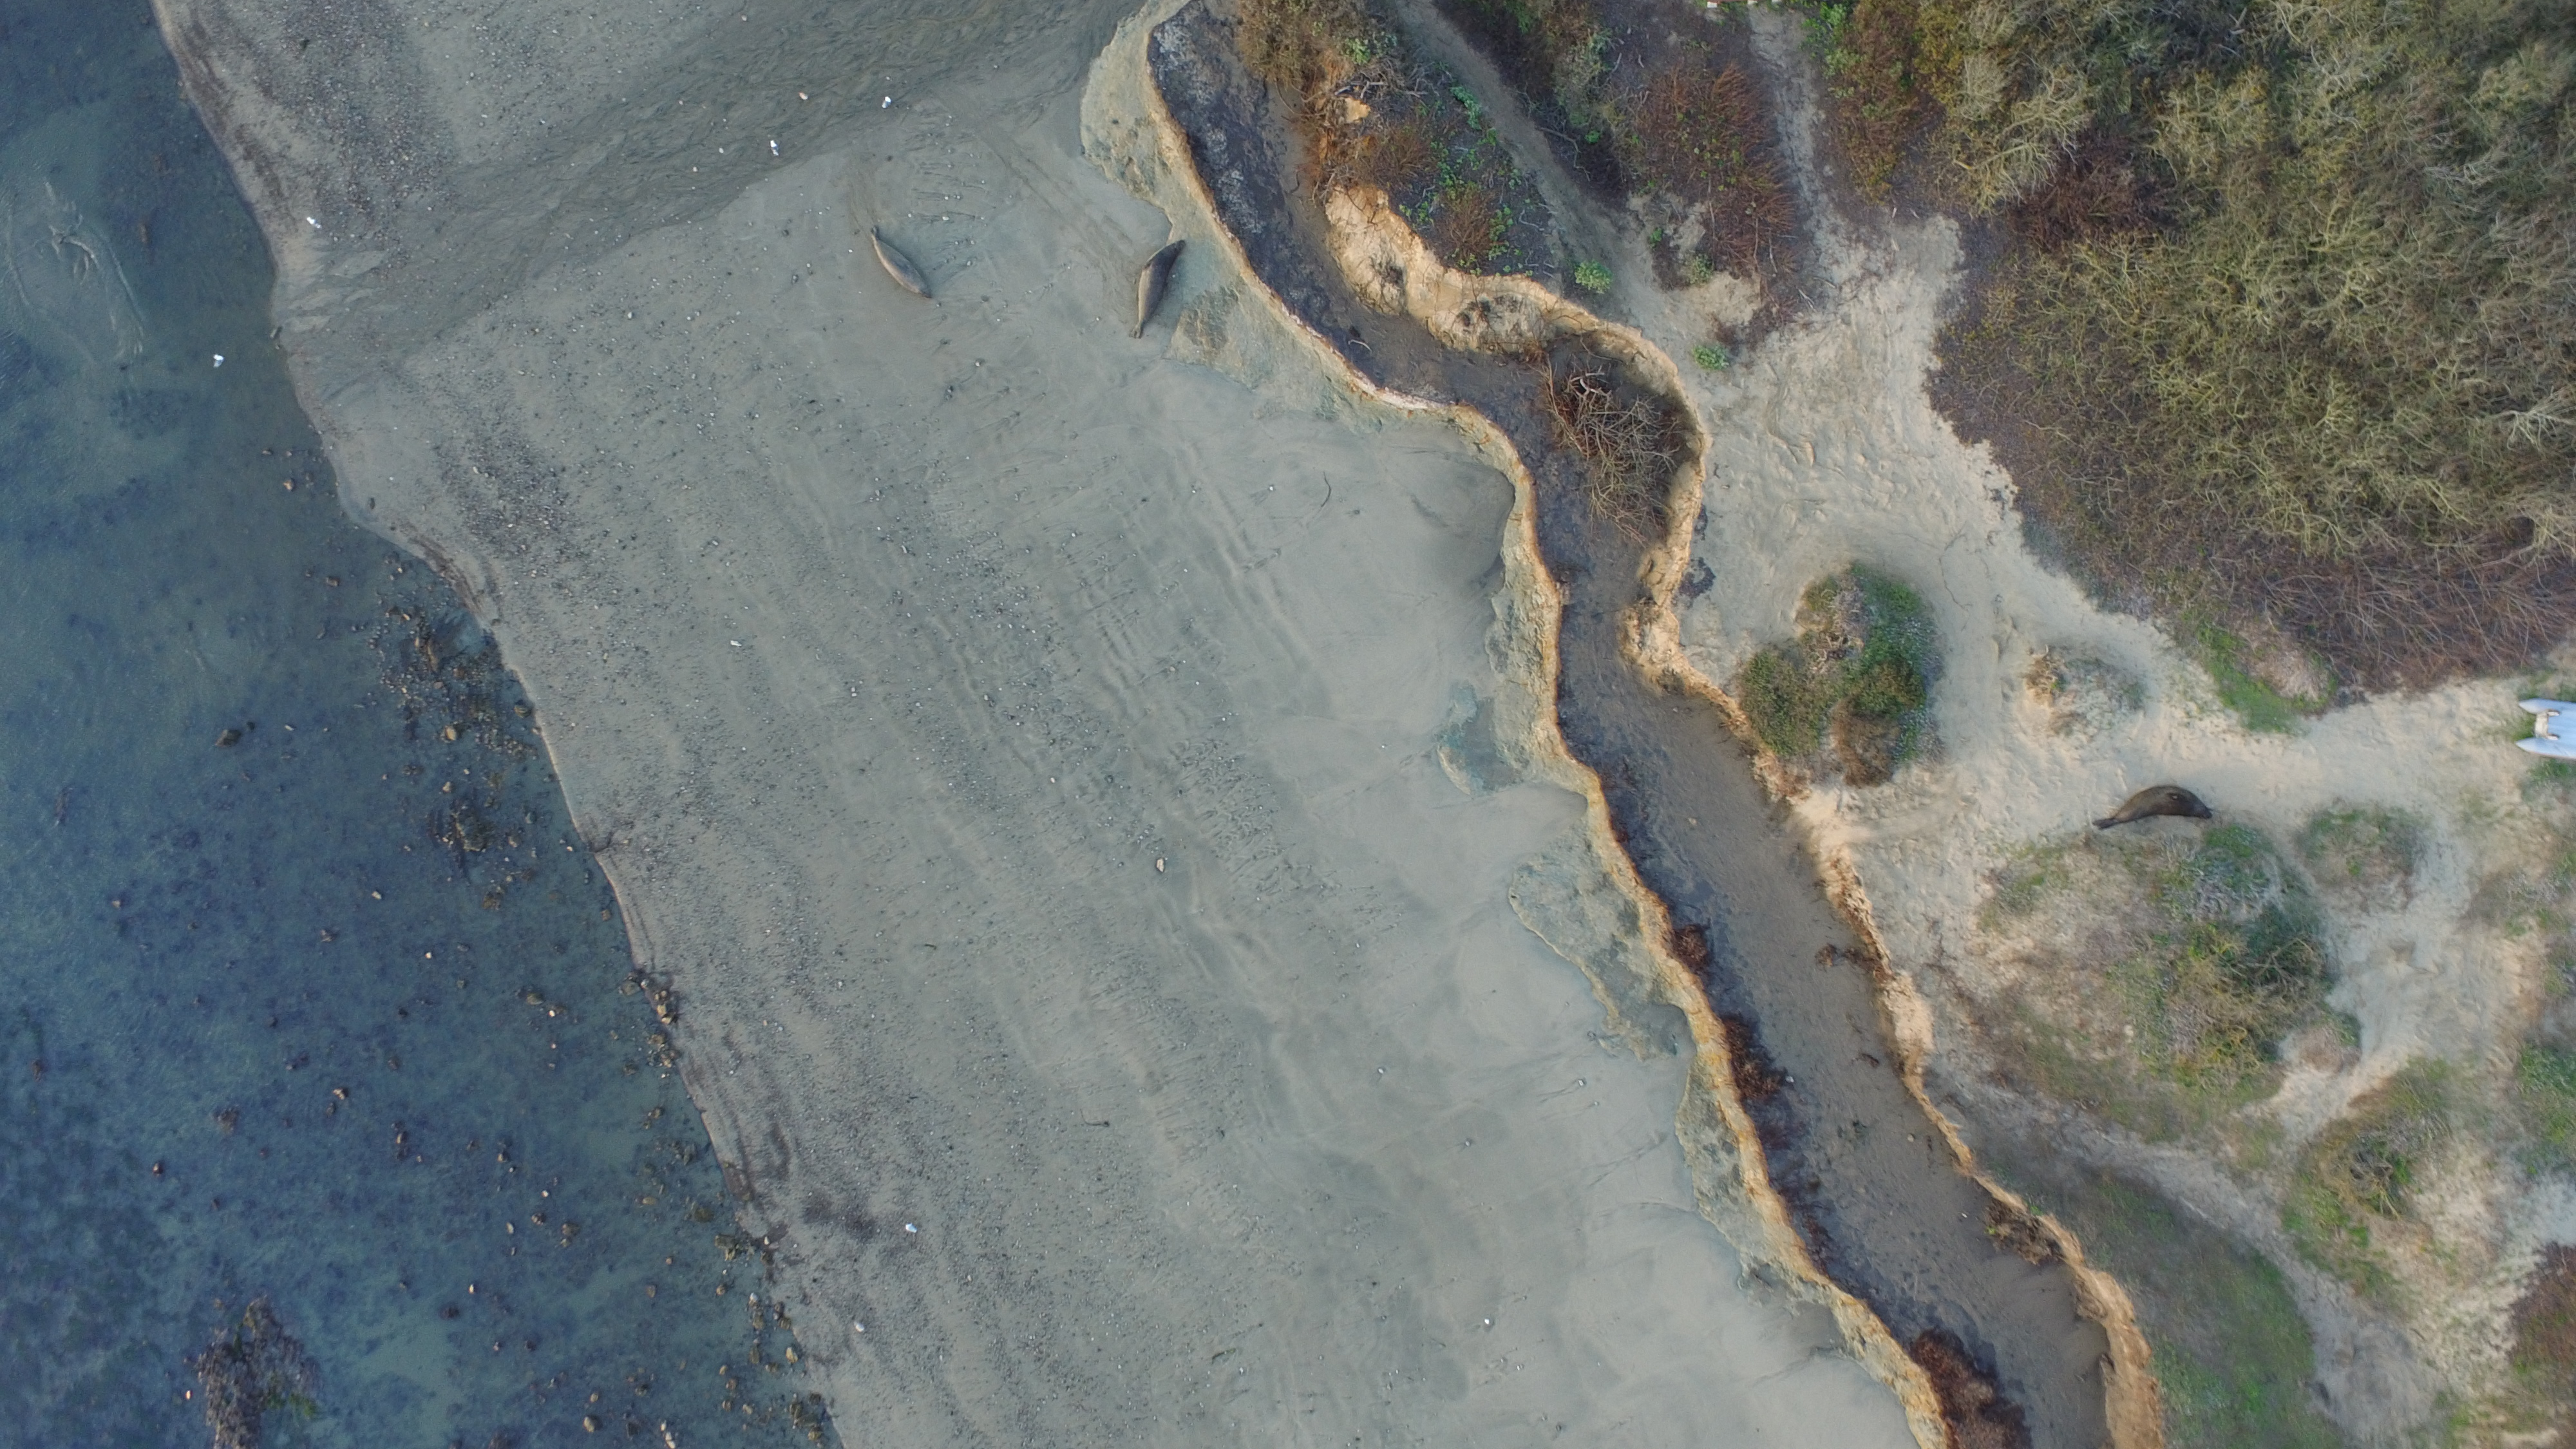Adult Female or Young Male: (1125, 230, 1191, 343), (862, 225, 947, 308), (2084, 780, 2213, 833)
